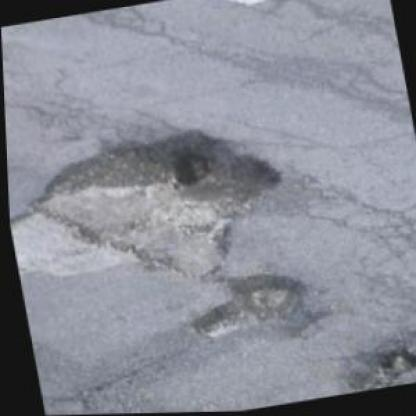pothole: (18, 111, 300, 302), (182, 262, 316, 343), (326, 323, 414, 395)
